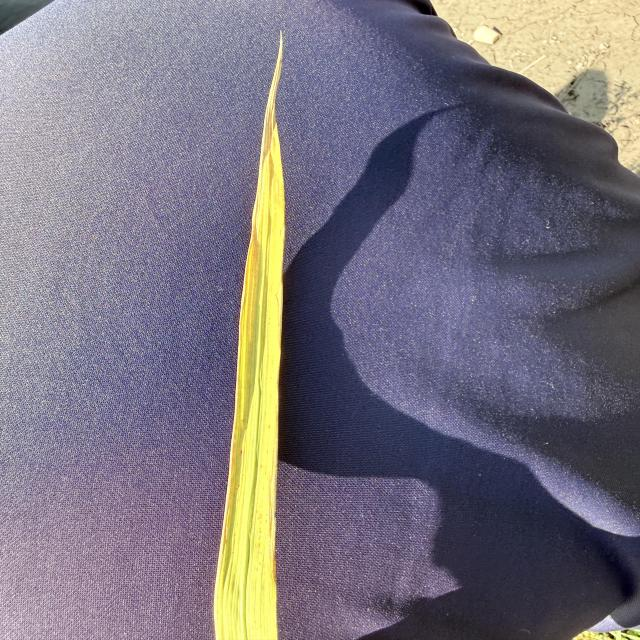Chay bia la: (238, 30, 283, 342)
